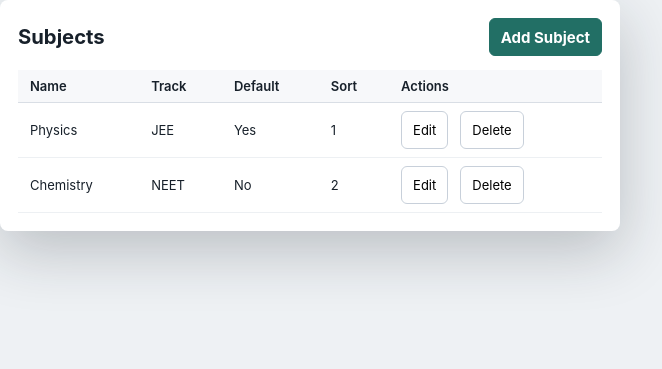
Test case: SubjectsPanel › cancels delete confirmation when edit is started on another row
Click the button "Delete" in the row of "Chemistry" at {"x": 492, "y": 185}, box x1=460 y1=166 x2=524 y2=204
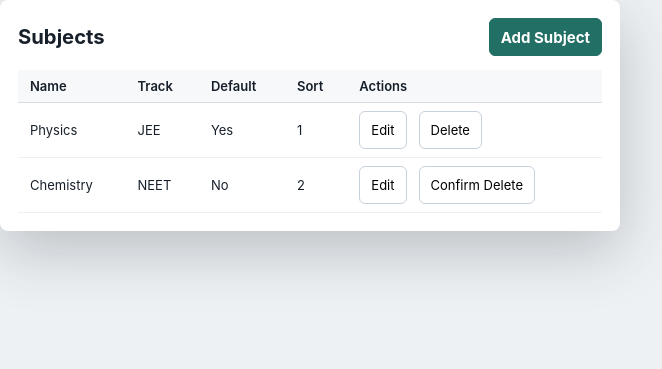
Now the button "Confirm Delete" is shown, box x1=418 y1=166 x2=535 y2=204
Click the button "Edit" in the row of "Physics" at {"x": 383, "y": 130}, box x1=359 y1=111 x2=406 y2=149
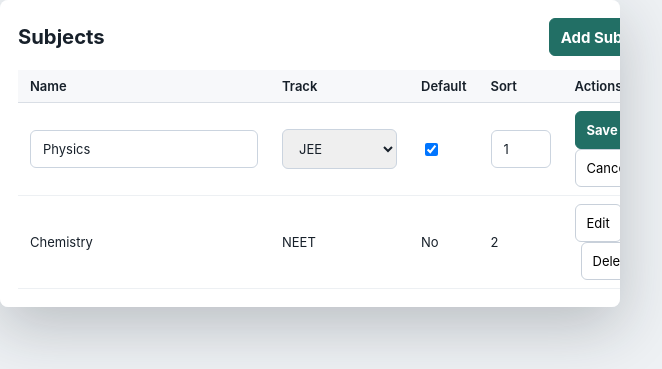
Now the button "Confirm Delete" is gone
